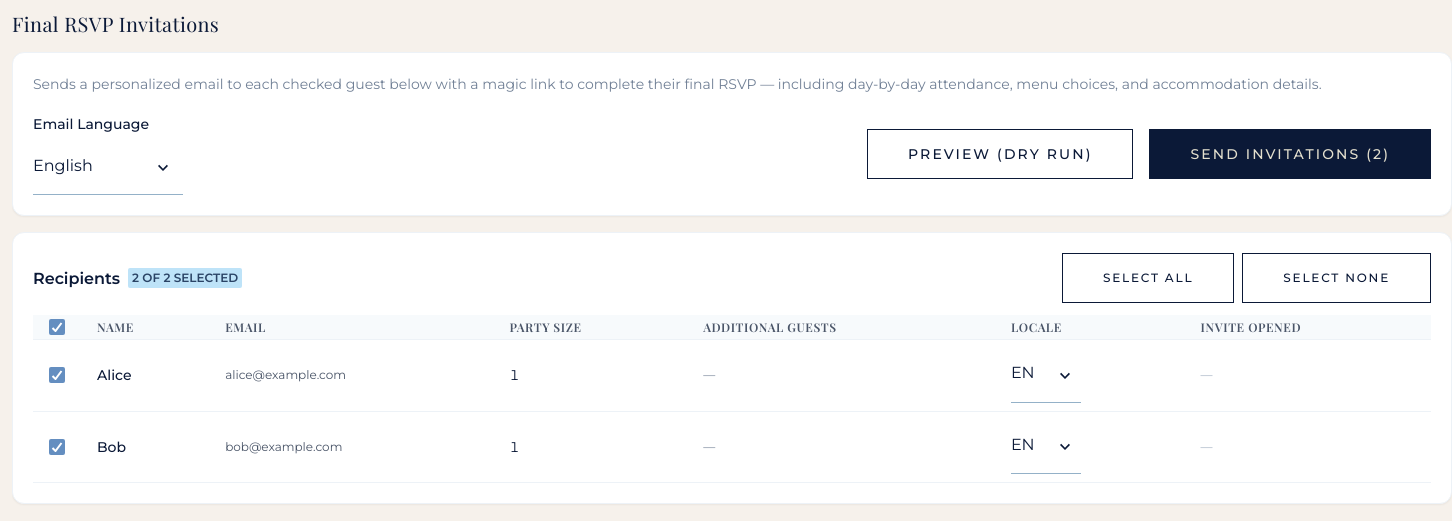
FinalRsvpInvitationsPanel — recipient checkbox selection › "Select None" then "Select All" restores the full recipient list
Click the button "Select None": {"x": 1337, "y": 278} [1242, 253, 1431, 303]
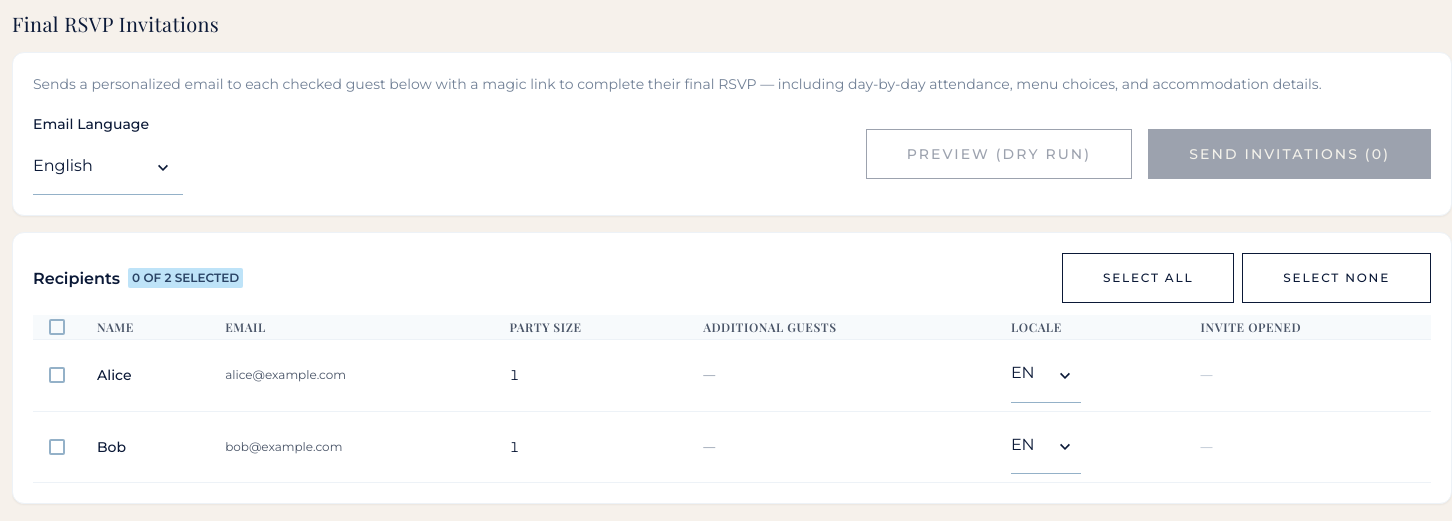
Check: the text "0 of 2 selected" is shown, box [128, 268, 243, 288]
Check: the button "Send Invitations (0)" is disabled, box [1148, 129, 1431, 179]
Click the button "Select All": {"x": 1148, "y": 278} [1062, 253, 1234, 303]
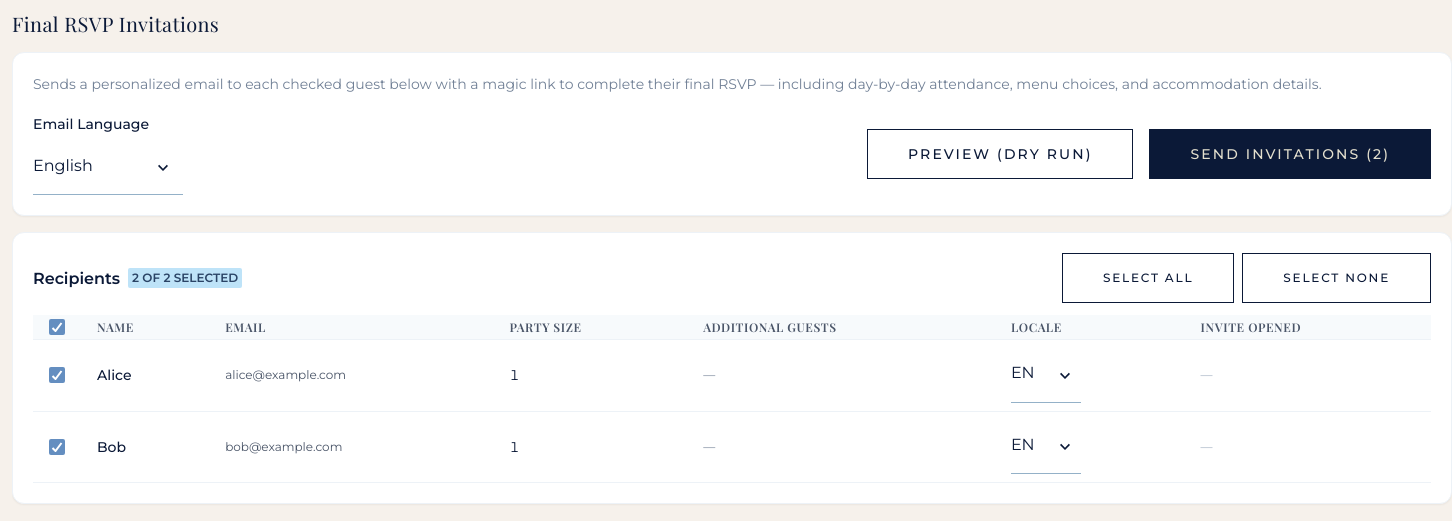
Check: the text "2 of 2 selected" is shown, box [128, 268, 242, 288]
